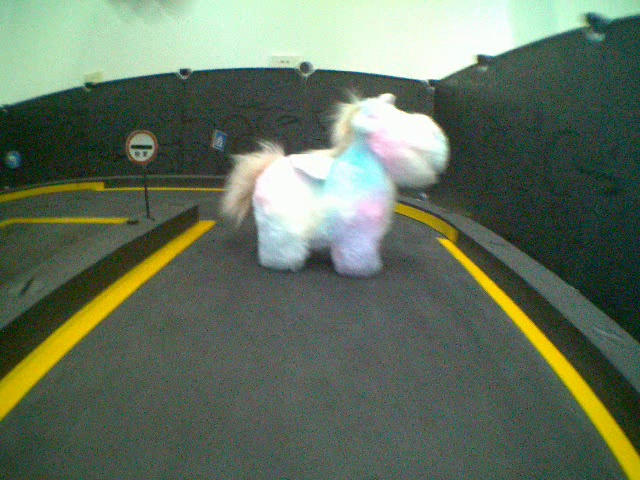unicorn: (220, 85, 449, 278)
